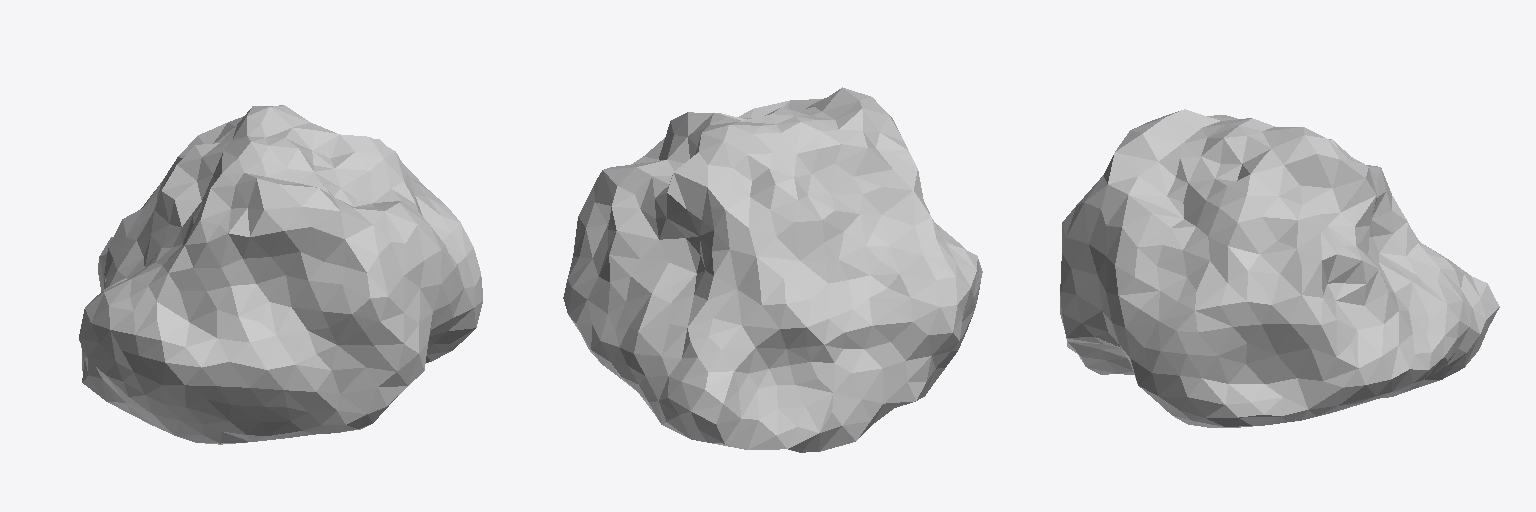
File: rock_b.obj
The picture shows the model from 3 angles: view 1: azimuth 30°, elevation 25°; view 2: azimuth 150°, elevation 25°; view 3: azimuth 270°, elevation 25°; orthographic projection.
Visible parts, largest first — view 1: Icosphere.008_Icosphere.014; view 2: Icosphere.008_Icosphere.014; view 3: Icosphere.008_Icosphere.014.
Part boxes in pixels (left/top/right/bottom): Icosphere.008_Icosphere.014: left=79, top=105, right=482, bottom=444; Icosphere.008_Icosphere.014: left=563, top=87, right=982, bottom=452; Icosphere.008_Icosphere.014: left=1060, top=109, right=1499, bottom=427.
Size of the model in its own units: 1.86 by 1.31 by 1.95.